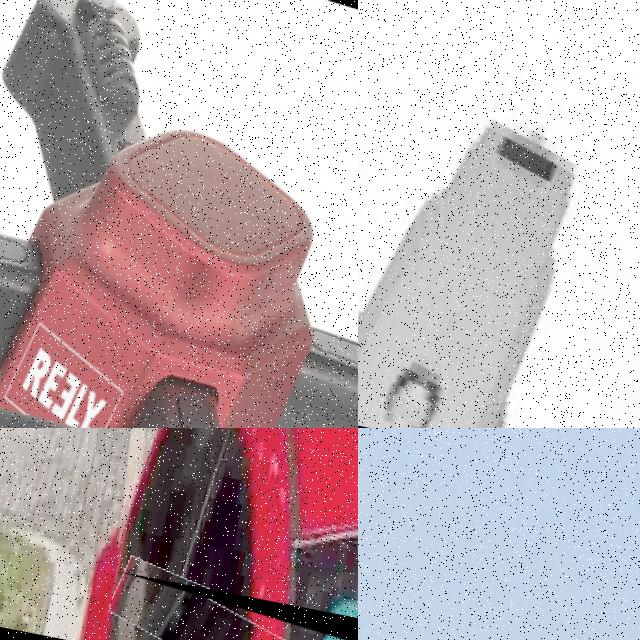0: (102, 571, 358, 640)
drone: (0, 0, 358, 428), (358, 0, 640, 428)
